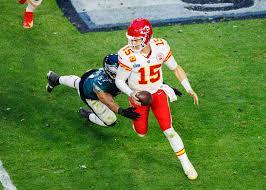americanFootball: (135, 91, 152, 105)
